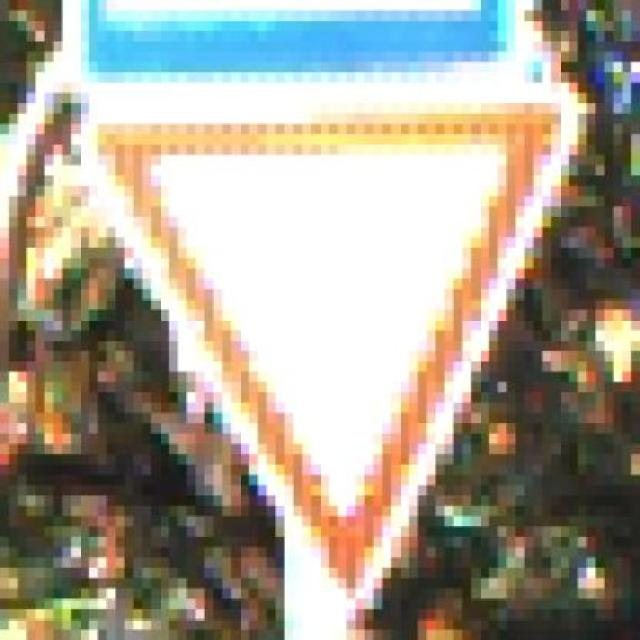Give Way: (40, 81, 628, 640)
